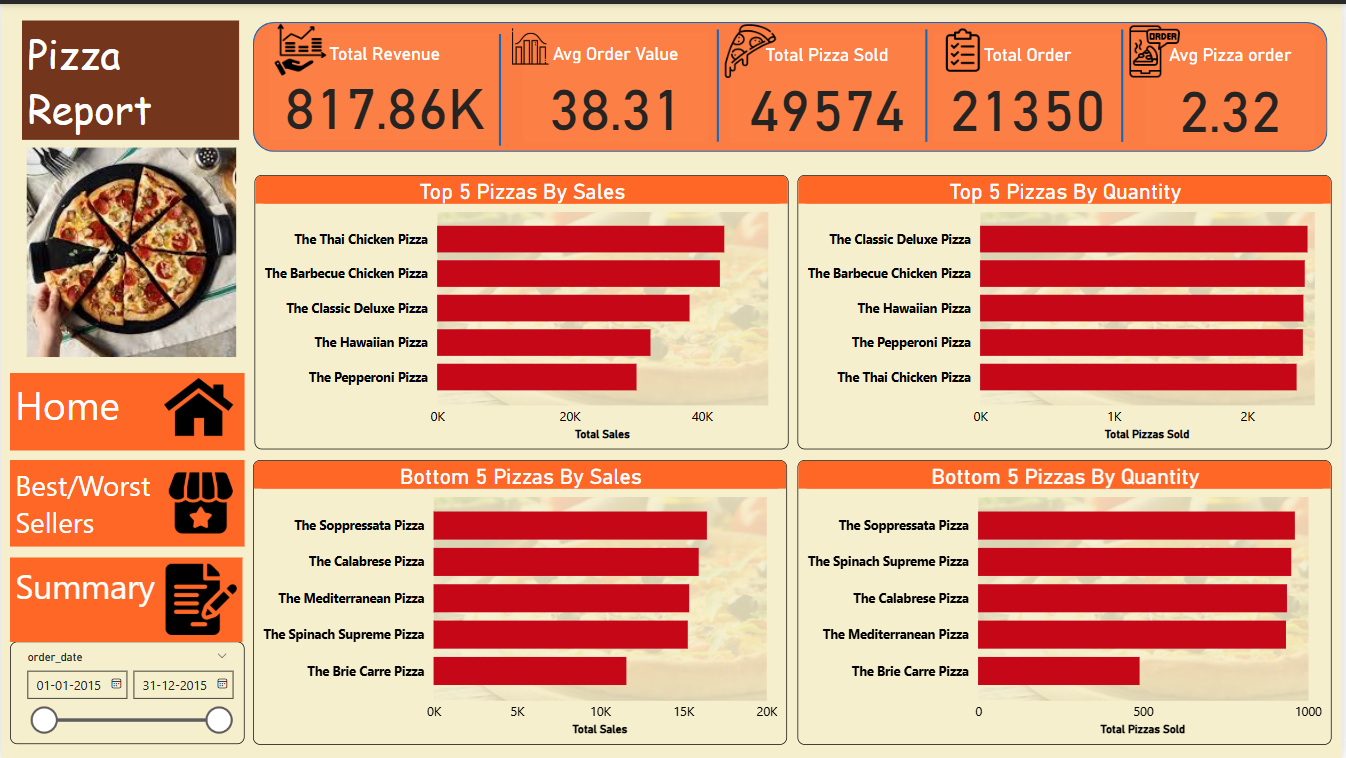

This screenshot's page, from the dashboard's own definition file:
{"tool":"powerbi","page":{"name":"best/worst seller","canvas":[1280,720],"ordinal":1},"visuals":[{"type":"image","box":[8.3,131.7,231.7,210],"z":0},{"type":"textbox","box":[8.7,528.3,221.7,80.4],"z":0,"group":"g3"},{"type":"shape","box":[240,17.1,1025.7,124.3],"z":1000},{"type":"textbox","box":[8.7,434.8,223.9,82.6],"z":1000,"group":"g2"},{"type":"textbox","box":[20,15.7,207.1,114.3],"z":2000},{"type":"textbox","box":[8.7,352.2,223.9,73.9],"z":2000,"group":"g1"},{"type":"card","title":"Total Revenue","fields":{"Values":["Measure.Total Sales"]},"box":[255.7,27.1,220,102.9],"z":3000},{"type":"card","title":"Avg Order Value","fields":{"Values":["Measure.Average Order Value"]},"box":[498.3,26.7,176.7,105],"z":4000},{"type":"card","title":"Total Pizza Sold","fields":{"Values":["Measure.Total Pizzas Sold"]},"box":[696.7,28.3,185,103.3],"z":5000},{"type":"card","title":"Total Order","fields":{"Values":["Measure.Total Orders"]},"box":[891.4,28.6,178.6,102.9],"z":6000},{"type":"card","title":"Avg Pizza order","fields":{"Values":["Measure.avg order per pizza"]},"box":[1093.3,28.3,161.7,105],"z":7000},{"type":"shape","box":[423.3,28.3,105,106.7],"z":8000},{"type":"shape","box":[631.4,24.3,105.7,107.1],"z":9000},{"type":"shape","box":[831.4,24.3,105.7,107.1],"z":10000},{"type":"shape","box":[1016.6,24.4,107.4,107.4],"z":11000},{"type":"image","box":[255,8.3,61.7,70],"z":12000},{"type":"image","box":[685,10,61.7,70],"z":13000},{"type":"image","box":[891.7,10,51.7,68.3],"z":14000},{"type":"image","box":[1070,15,63.3,61.7],"z":15000},{"type":"image","box":[483.3,16.7,45,46.7],"z":16000},{"type":"slicer","fields":{"Values":["pizza_sales.order_date"]},"box":[8.7,608.7,223.9,97.8],"z":17000},{"type":"clusteredBarChart","title":"Top 5 Pizzas By Sales","fields":{"Category":["pizza_sales.pizza_name"],"Y":["Measure.Total Sales"]},"box":[242.2,162.8,510.3,262.1],"z":18000},{"type":"clusteredBarChart","title":"Top 5 Pizzas By Quantity","fields":{"Category":["pizza_sales.pizza_name"],"Y":["Measure.Total Pizzas Sold"]},"box":[760.5,162.8,510.3,262.1],"z":19000},{"type":"clusteredBarChart","title":"Bottom 5 Pizzas By Sales","fields":{"Category":["pizza_sales.pizza_name"],"Y":["Measure.Total Sales"]},"box":[240.3,434.8,510.3,272],"z":20000},{"type":"clusteredBarChart","title":"Bottom 5 Pizzas By Quantity","fields":{"Category":["pizza_sales.pizza_name"],"Y":["Measure.Total Pizzas Sold"]},"box":[760.5,434.8,510.3,272],"z":21000},{"type":"group","id":"g1","title":"Group 1","box":[8.7,343.5,223.9,82.6],"z":22000},{"type":"group","id":"g2","title":"Group 2","box":[8.7,434.8,223.9,82.6],"z":23000},{"type":"group","id":"g3","title":"Group 3","box":[8.7,528.3,221.7,80.4],"z":24000},{"type":"image","box":[150,343.5,76.1,82.6],"z":26000,"group":"g1"},{"type":"image","box":[150,434.8,80.4,82.6],"z":27000,"group":"g2"},{"type":"image","box":[152.2,528.3,78.3,80.4],"z":28000,"group":"g3"}]}

Visuals, with their boxes in screenshot pixels (x1, y1, x2, y2), scaled from the page's 1280x720 canvas onto the 1346x758 screenshot:
image: rect(9, 139, 252, 360)
textbox: rect(9, 556, 242, 641)
shape: rect(252, 18, 1331, 149)
textbox: rect(9, 458, 245, 545)
textbox: rect(21, 17, 239, 137)
textbox: rect(9, 371, 245, 449)
"Total Revenue" card: rect(269, 29, 500, 137)
"Avg Order Value" card: rect(524, 28, 710, 139)
"Total Pizza Sold" card: rect(733, 30, 927, 139)
"Total Order" card: rect(937, 30, 1125, 138)
"Avg Pizza order" card: rect(1150, 30, 1320, 140)
shape: rect(445, 30, 556, 142)
shape: rect(664, 26, 775, 138)
shape: rect(874, 26, 985, 138)
shape: rect(1069, 26, 1182, 139)
image: rect(268, 9, 333, 82)
image: rect(720, 11, 785, 84)
image: rect(938, 11, 992, 82)
image: rect(1125, 16, 1192, 81)
image: rect(508, 18, 556, 67)
slicer - pizza_sales.order_date: rect(9, 641, 245, 744)
"Top 5 Pizzas By Sales" clusteredBarChart: rect(255, 171, 791, 447)
"Top 5 Pizzas By Quantity" clusteredBarChart: rect(800, 171, 1336, 447)
"Bottom 5 Pizzas By Sales" clusteredBarChart: rect(253, 458, 789, 744)
"Bottom 5 Pizzas By Quantity" clusteredBarChart: rect(800, 458, 1336, 744)
"Group 1" group: rect(9, 362, 245, 449)
"Group 2" group: rect(9, 458, 245, 545)
"Group 3" group: rect(9, 556, 242, 641)
image: rect(158, 362, 238, 449)
image: rect(158, 458, 242, 545)
image: rect(160, 556, 242, 641)
